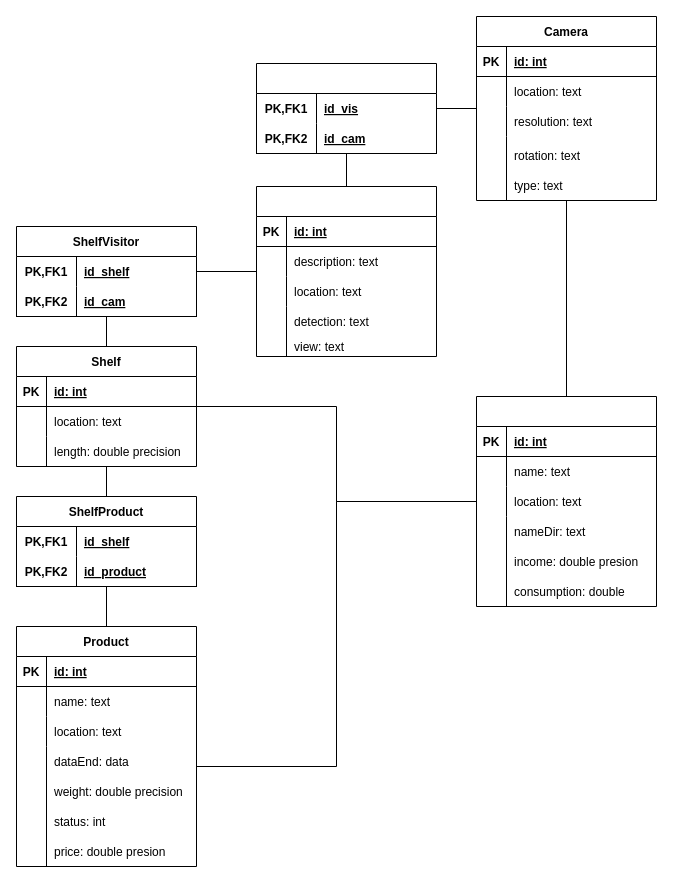
Some shapes in this 673 by 883 pixel diagram are drawn without their labels. The shapes that lost their labels are listed below. From the top down, each one's box as (x1, y1, x2, y2) in pixels, then its label:
(256, 62, 436, 154): CameraVisitor
(256, 186, 436, 356): Visitor
(476, 396, 656, 606): ChainStore
